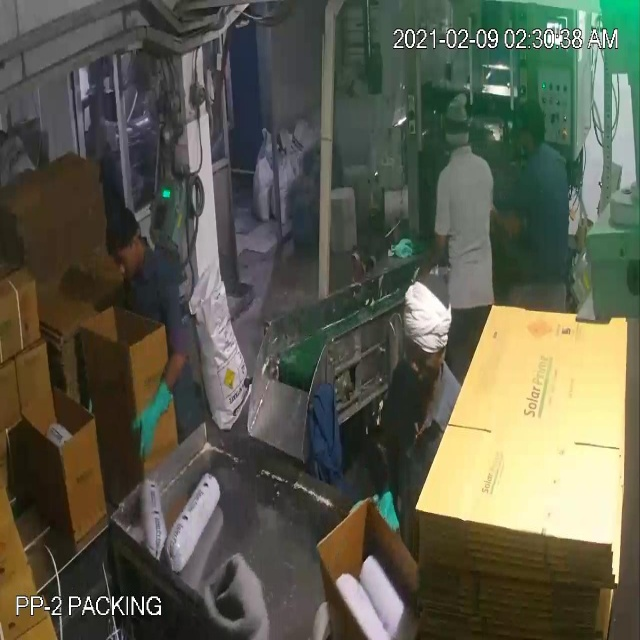Guantes: (112, 360, 178, 462)
Sin_guantes: (401, 221, 450, 285), (481, 192, 534, 251)
